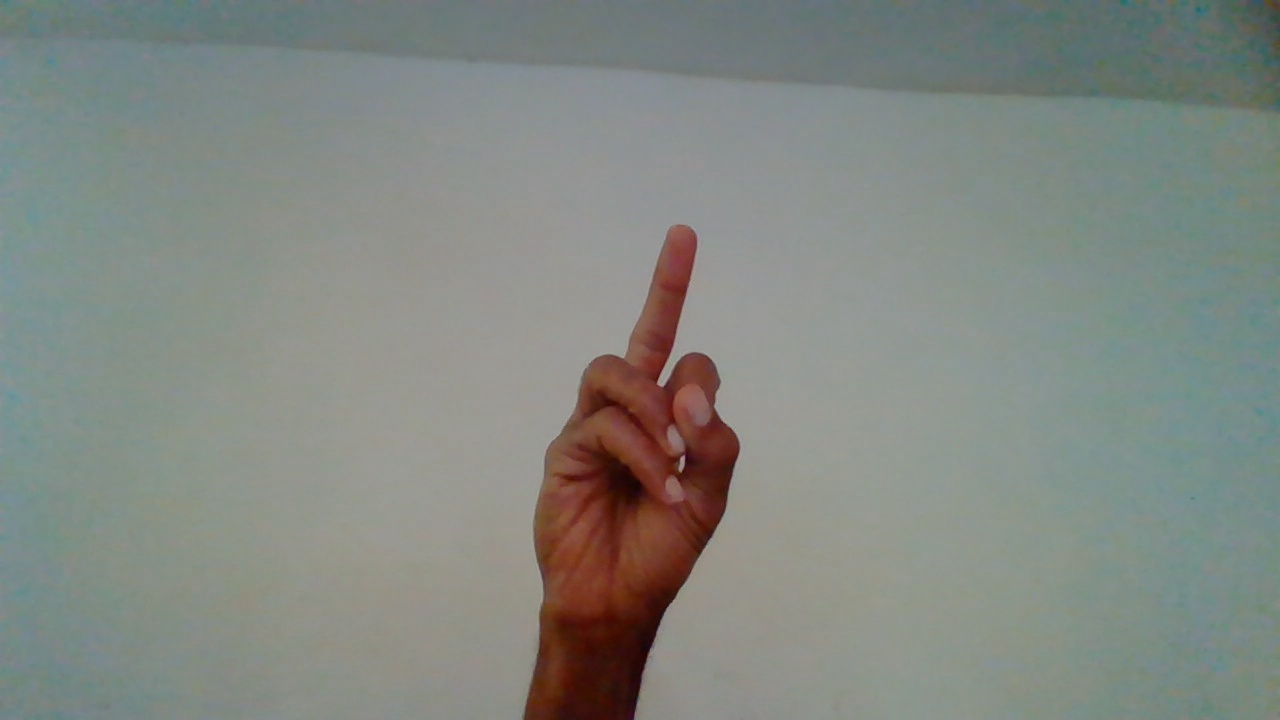he: (530, 224, 745, 707)
